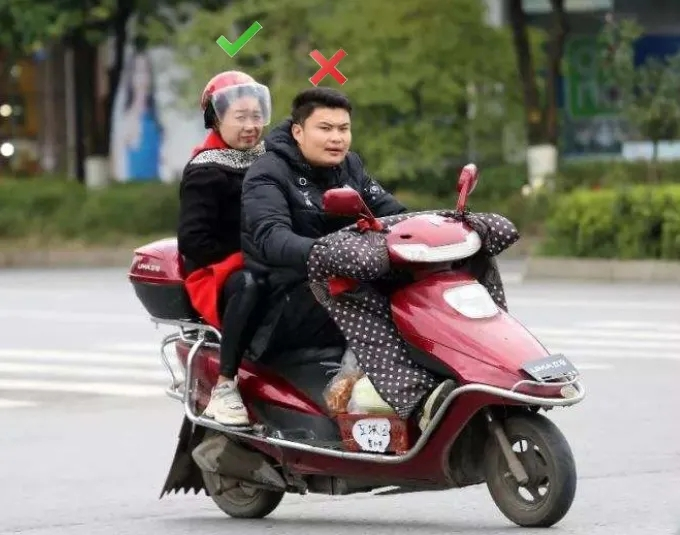电动车: (112, 156, 589, 533)
